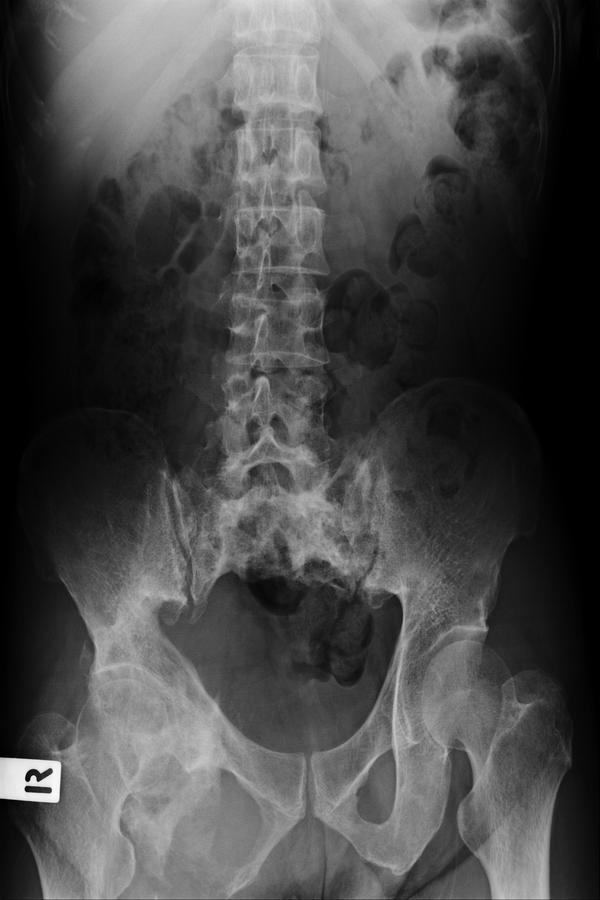lumbar scoliosis: (215, 14, 344, 560)
